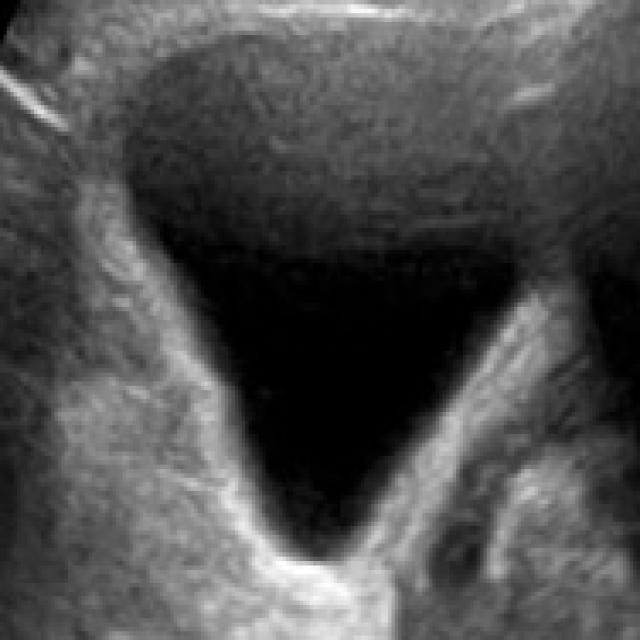bladder: (91, 5, 587, 612)
